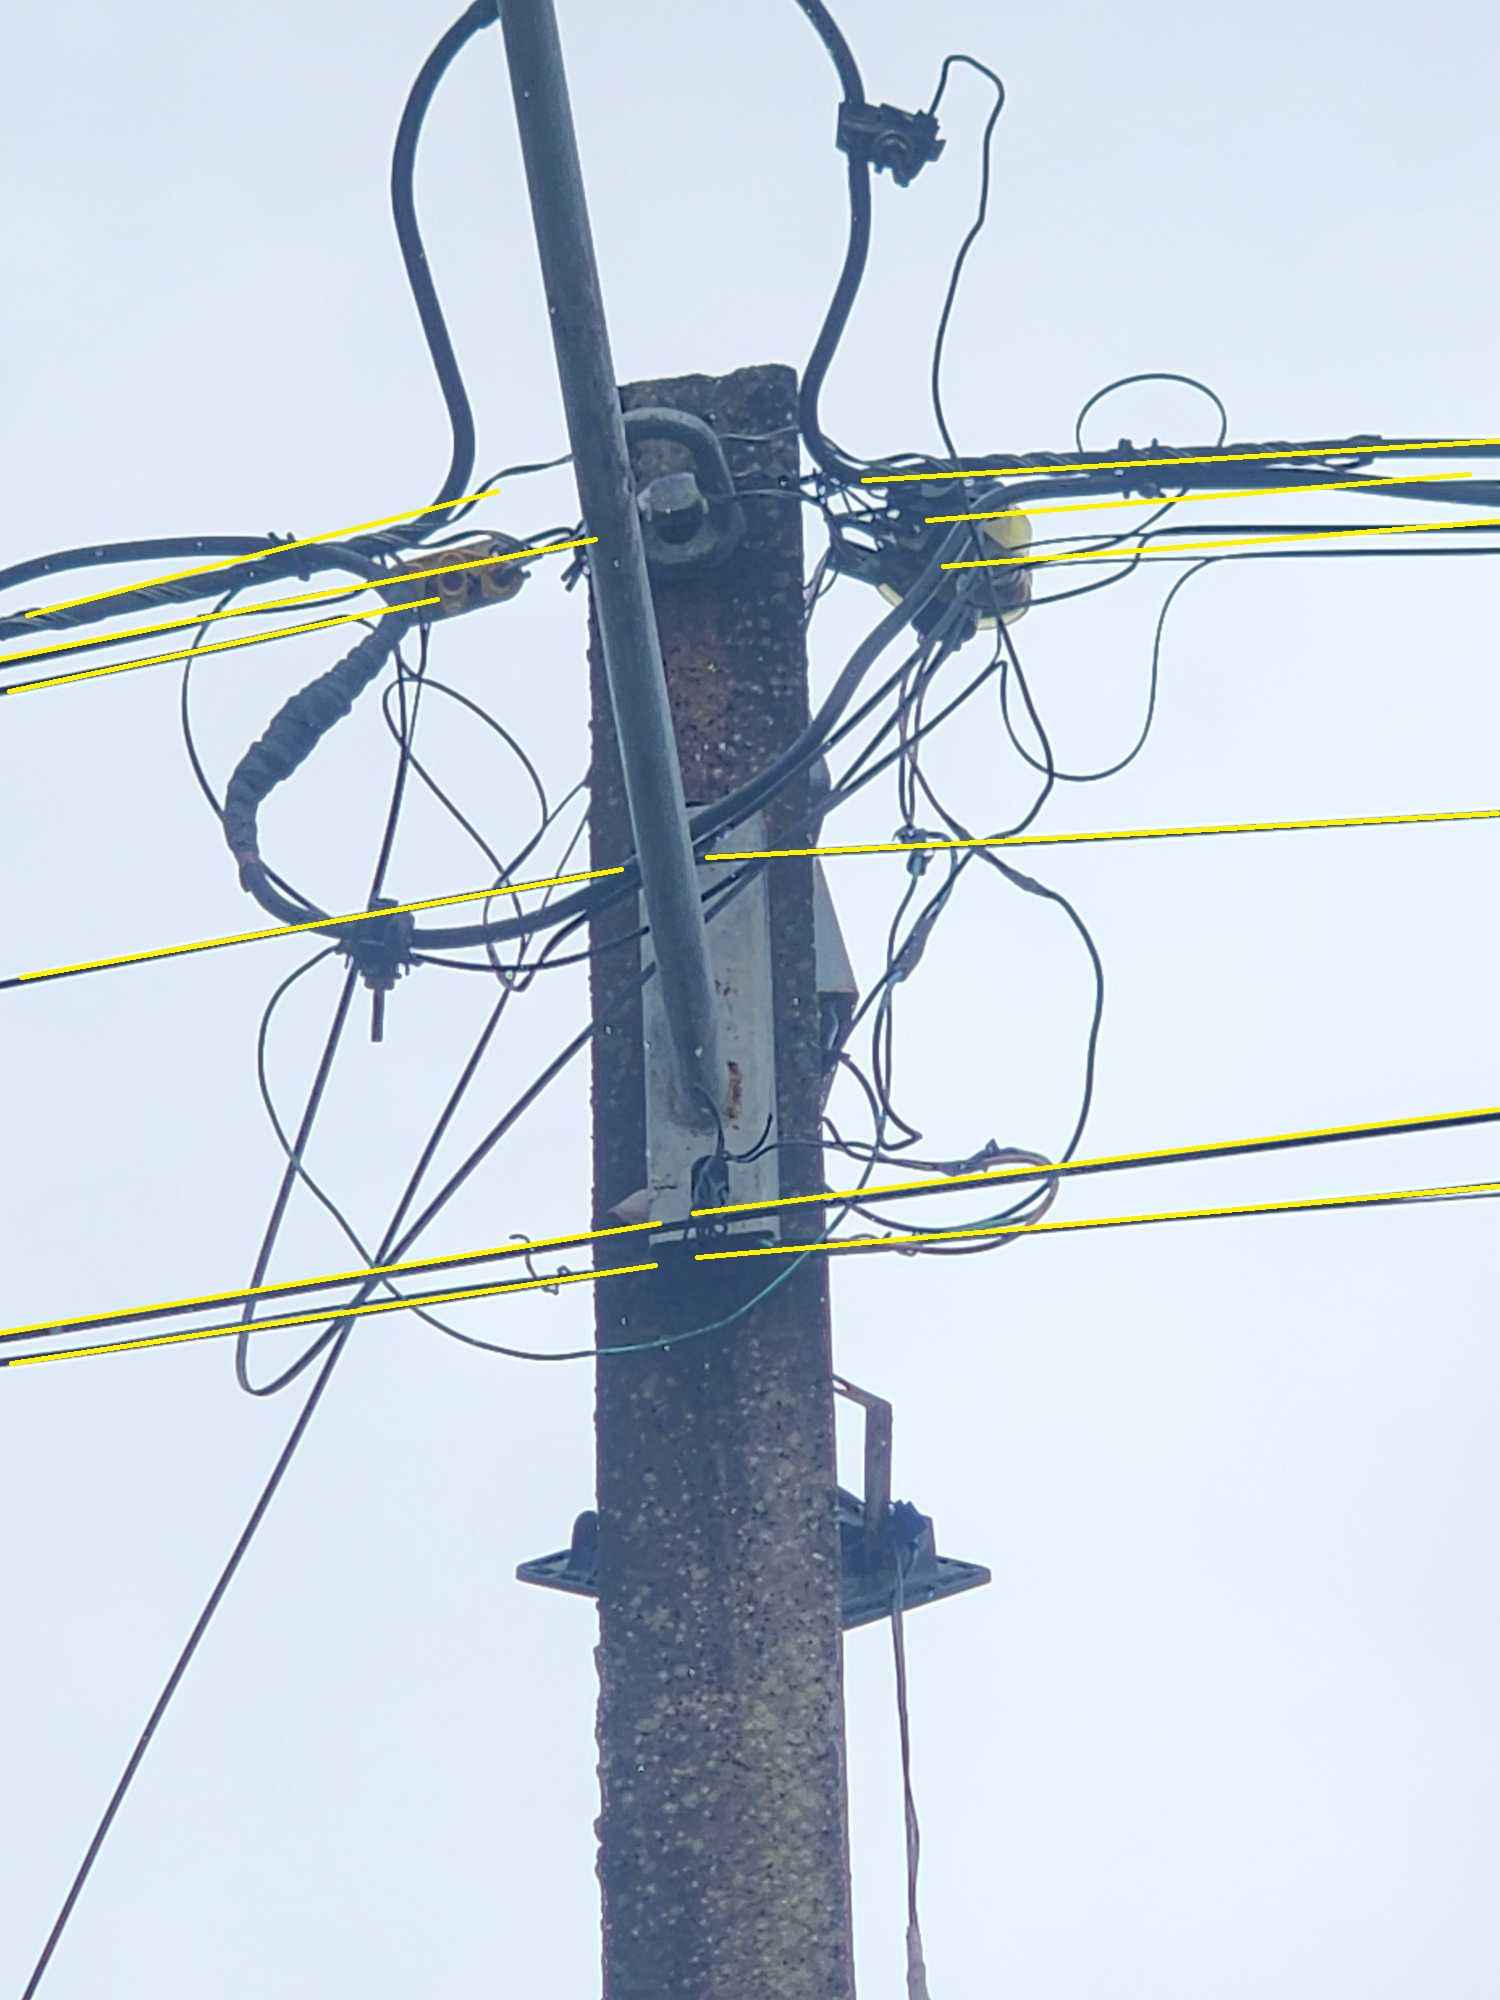poste: (566, 369, 867, 2000)
